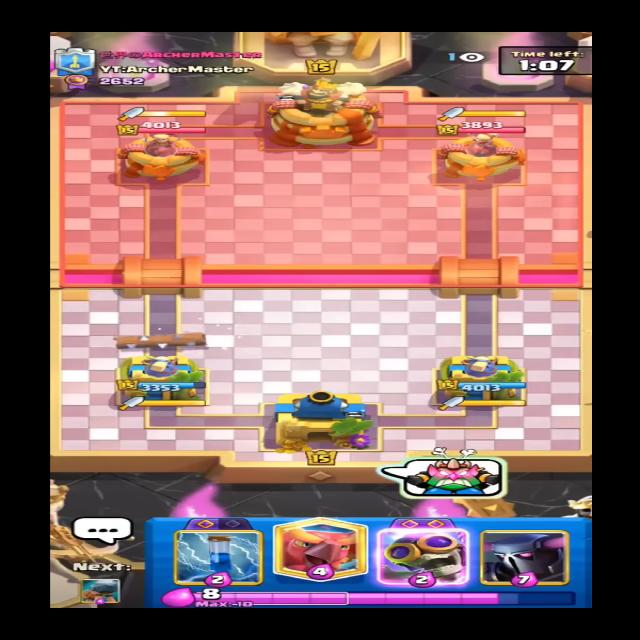Log: (98, 322, 221, 350)
